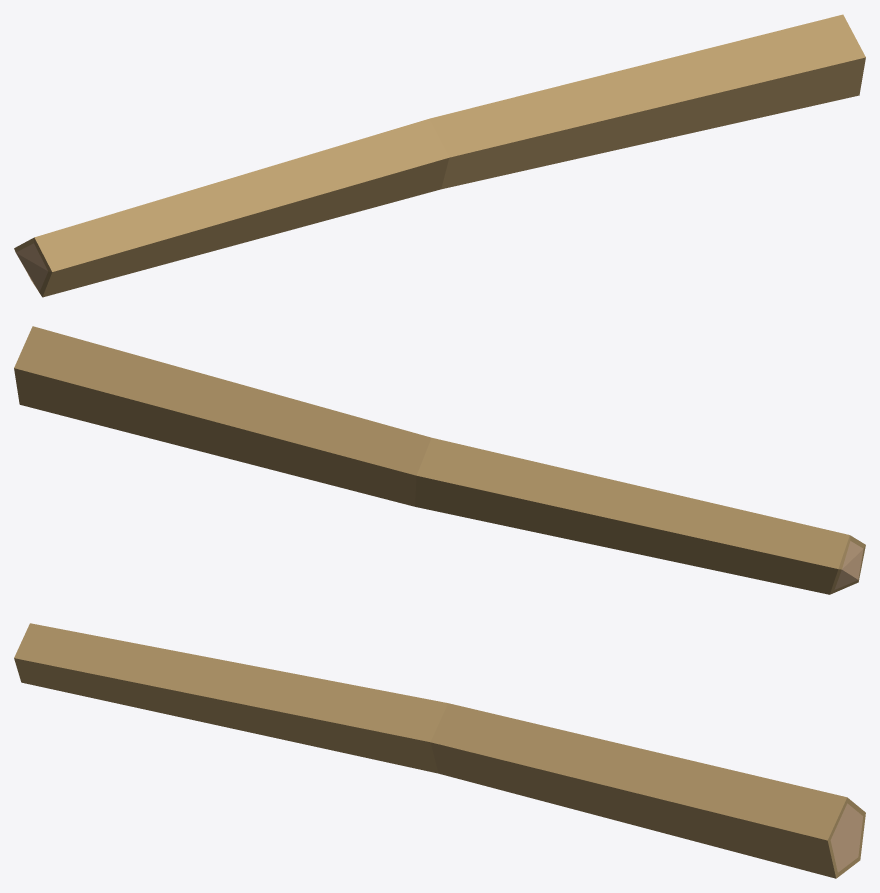
Rendered from Acacia_Log_03_LOD.fbx.
3 renders of one model, top to bottom at view 1: azimuth 30°, elevation 25°; view 2: azimuth 150°, elevation 25°; view 3: azimuth 330°, elevation 25°, orthographic.
Parts seen in each view (by area): view 1: Acacia_Log_03_LOD0; view 2: Acacia_Log_03_LOD0; view 3: Acacia_Log_03_LOD0.
Boxes of the visible parts, <box> form: Acacia_Log_03_LOD0: <box>14,14,865,297</box>; Acacia_Log_03_LOD0: <box>14,326,865,594</box>; Acacia_Log_03_LOD0: <box>14,623,865,878</box>.
Size of what is drawn, in the model's own units: 342 by 28.36 by 34.56.
